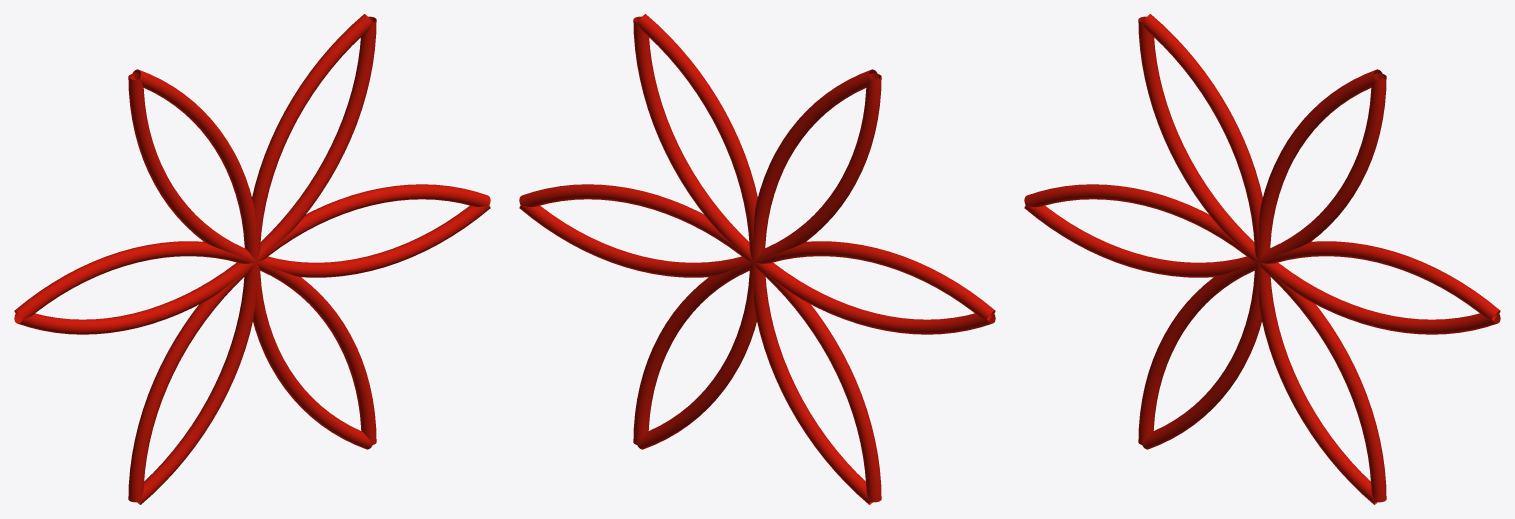
Rendered from seedoflife.glb.
3 renders of one model, left to right at view 1: azimuth 30°, elevation 25°; view 2: azimuth 150°, elevation 25°; view 3: azimuth 330°, elevation 25°, orthographic.
Size of the model in its own units: 4.06 by 3.56 by 0.112.
